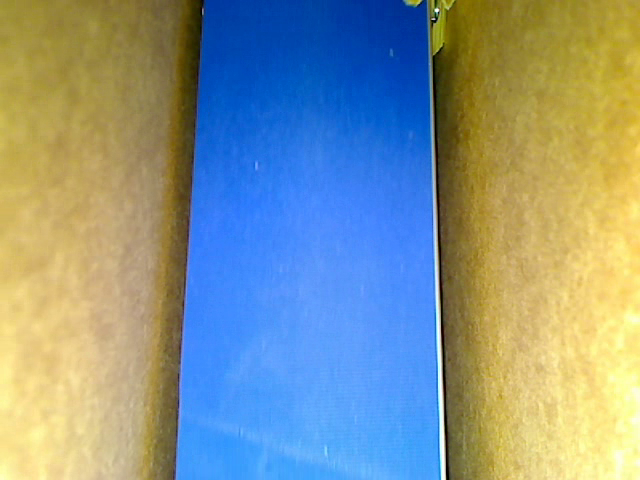penne: (427, 1, 452, 56)
